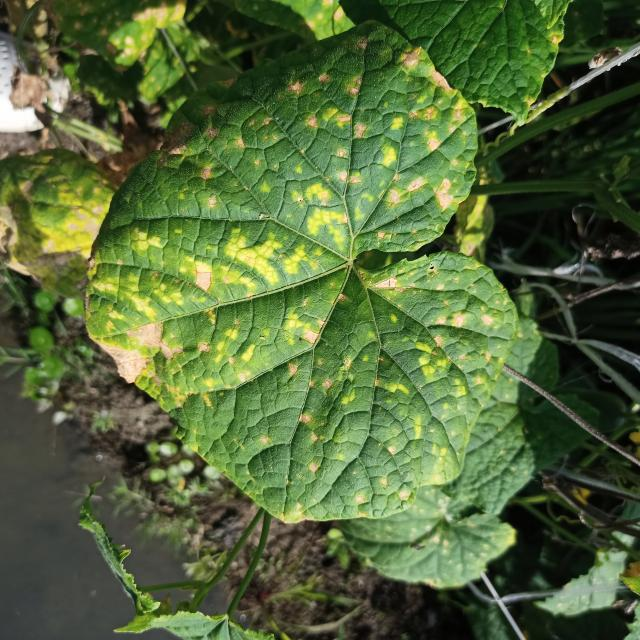disease_cucumber: (91, 38, 484, 500)
